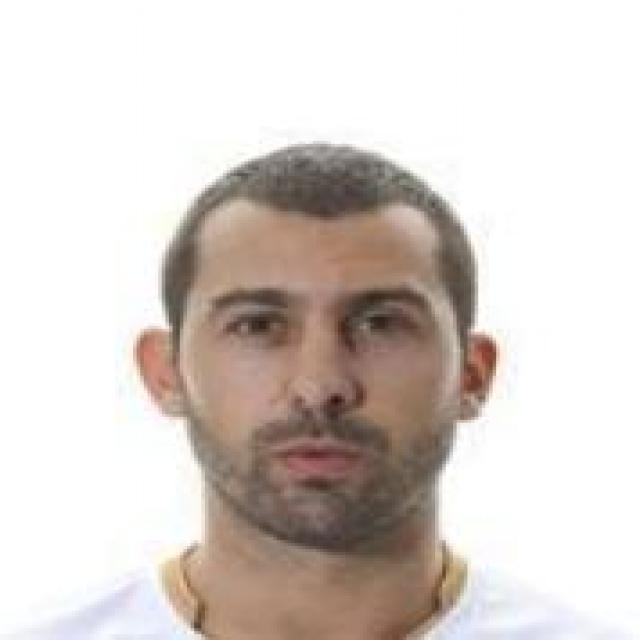nomask: (115, 100, 521, 534)
